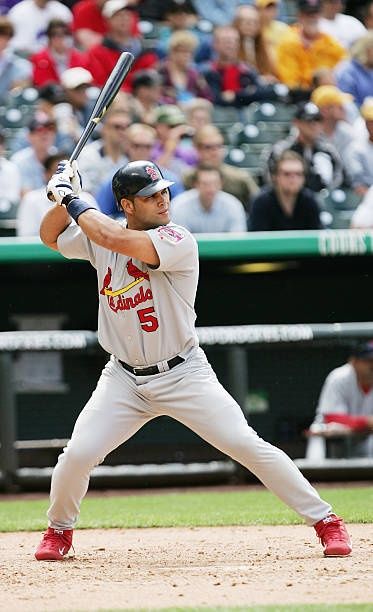bita: (52, 48, 138, 191)
